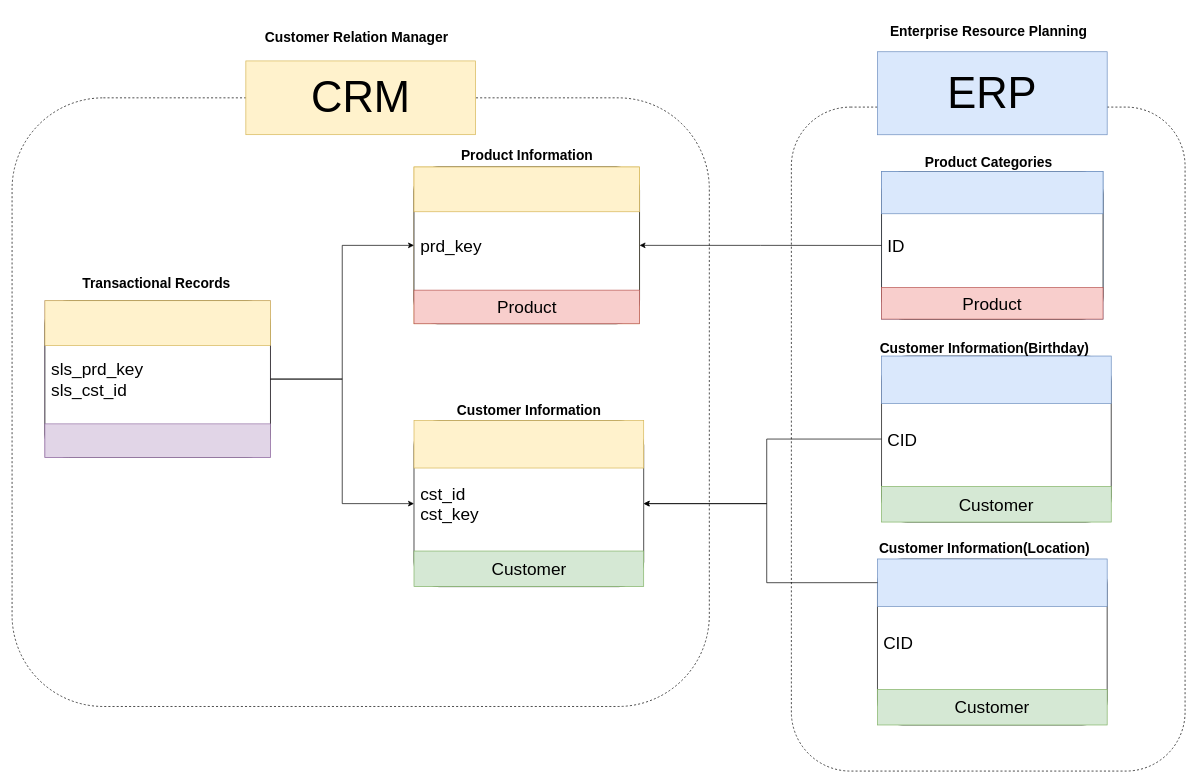
This 1197x783 diagram has some shape labels left out. Each missing label, with the centre of its shape:
"crm_cust_info" goes at (528,444).
"crm_prd_info" goes at (526,189).
"crm_sales_details" goes at (157,322).
"erp_cust_az12" goes at (996,379).
"erp_loc_a101" goes at (992,582).
"erp_px_cat_g1v2" goes at (992,192).
"Sales" goes at (157,440).
